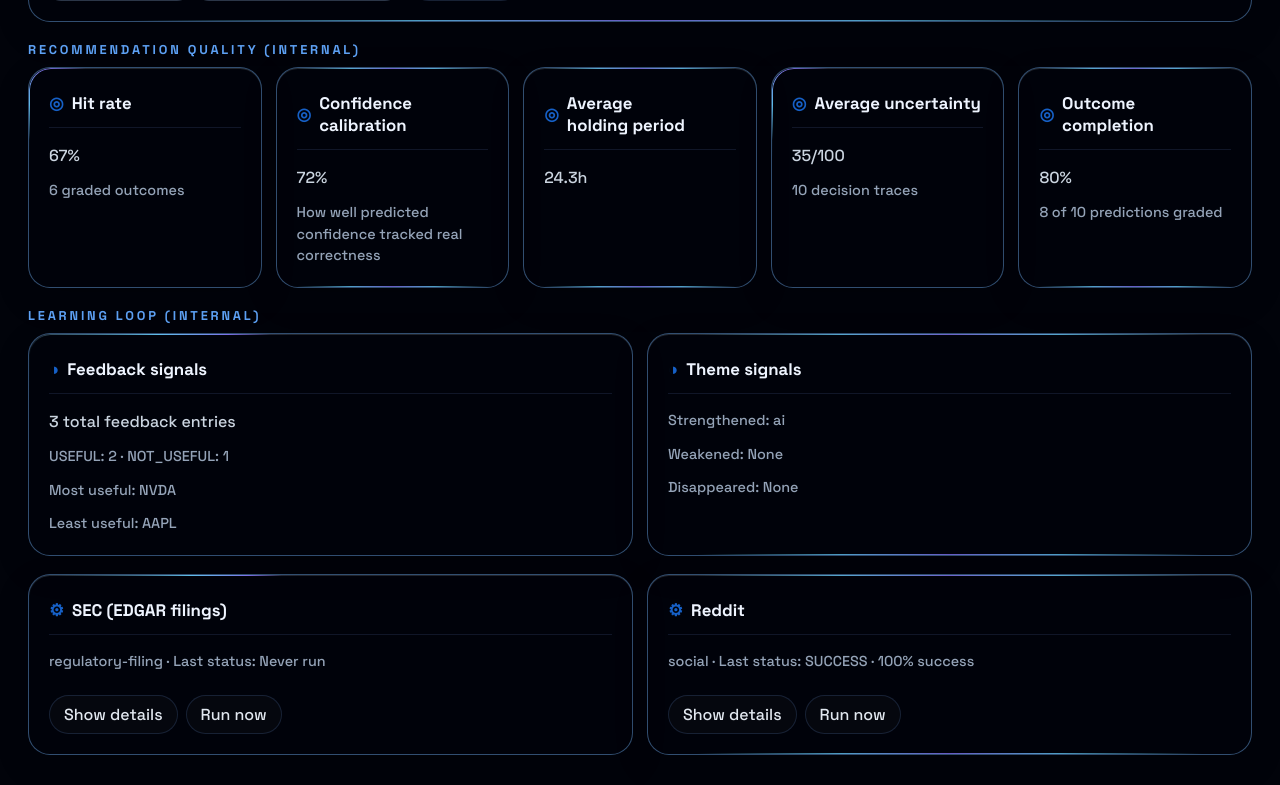
Test: IntelligenceConsoleScreen › expands a provider to show metrics, diagnostics, and metadata, fetching each once
The image size is (1280, 785).
(page scrolled)
Expected: the heading "⚙ SEC (EDGAR filings)" is shown, [49,599,227,621]
Click the button "Show details" below "regulatory-filing" at (113, 714), box [49,694,178,734]
(page scrolled)
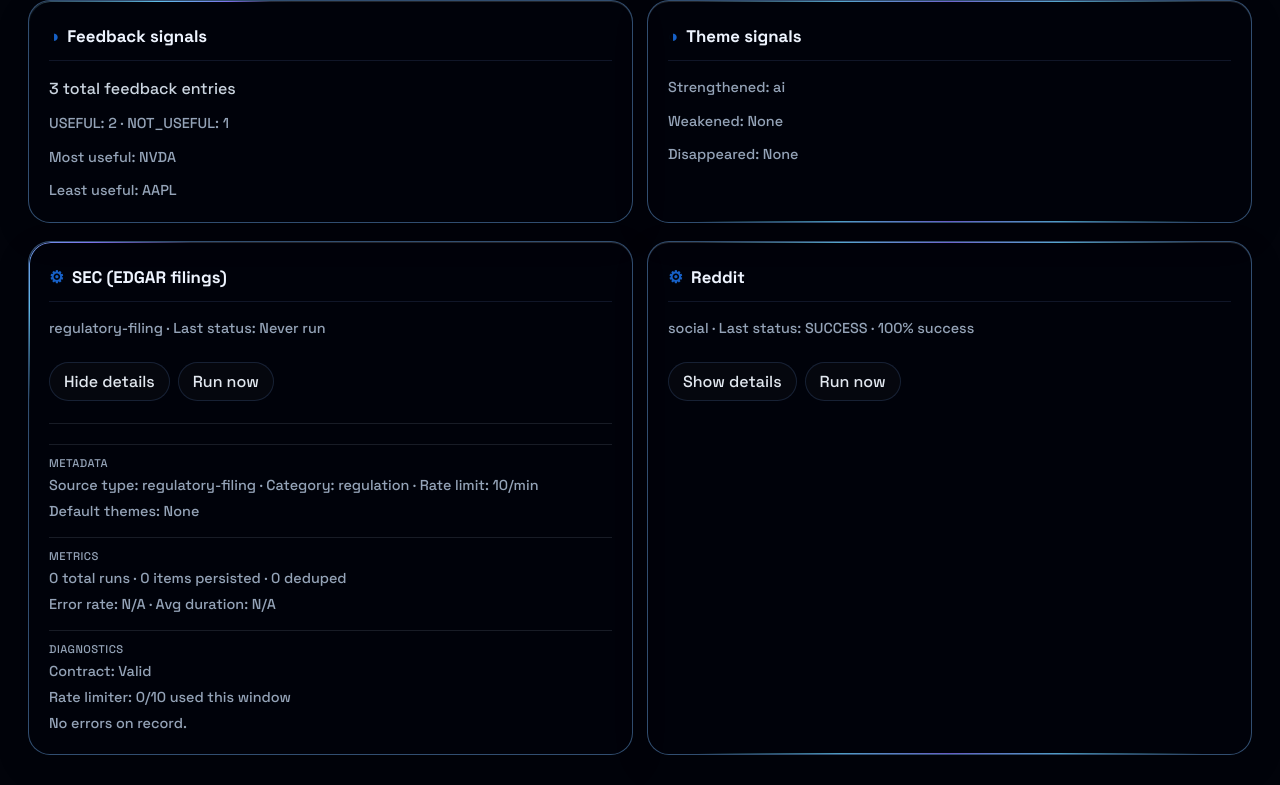
Expected: the text "Contract: Valid" is shown, [49,662,152,680]
